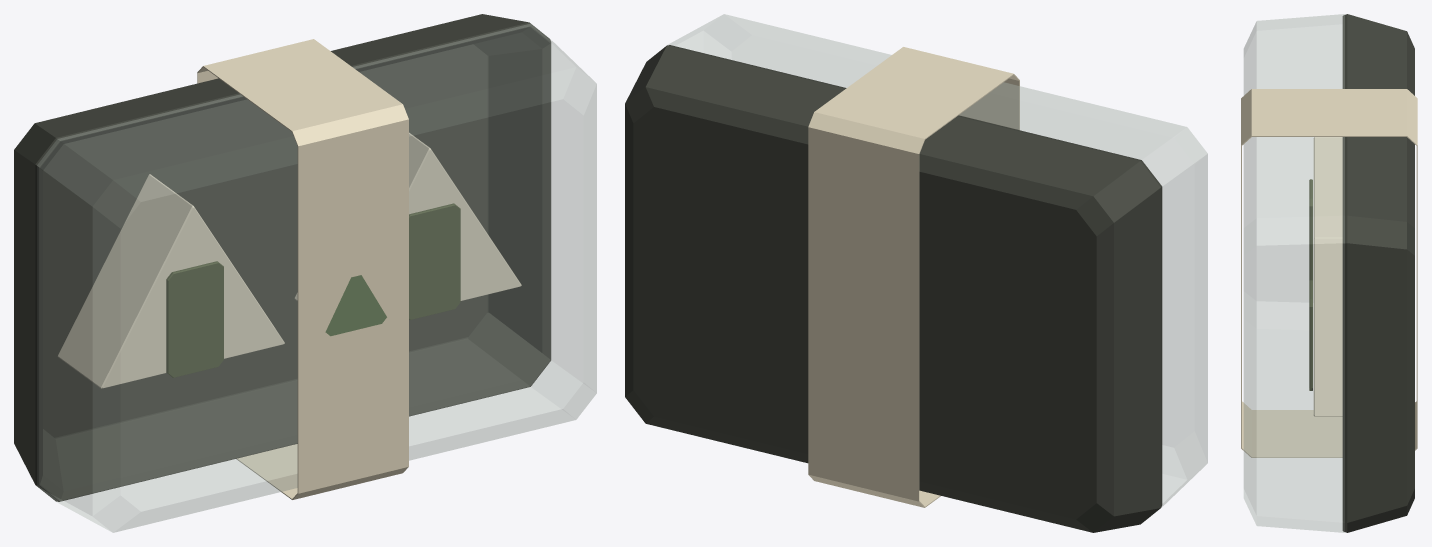
Rendered from onigiri.glb.
The picture shows the model from 3 angles, left to right: view 1: azimuth 30°, elevation 25°; view 2: azimuth 150°, elevation 25°; view 3: azimuth 270°, elevation 25°; orthographic projection. The views are drawn at different scales.
Visible parts, largest first — view 1: onigiri; view 2: onigiri; view 3: onigiri.
Boxes of the visible parts, bbox=[...] form: onigiri: bbox=[14, 14, 596, 532]; onigiri: bbox=[625, 14, 1207, 532]; onigiri: bbox=[1241, 14, 1417, 532].
Size of the model in its own units: 0.2 by 0.137 by 0.0698.
